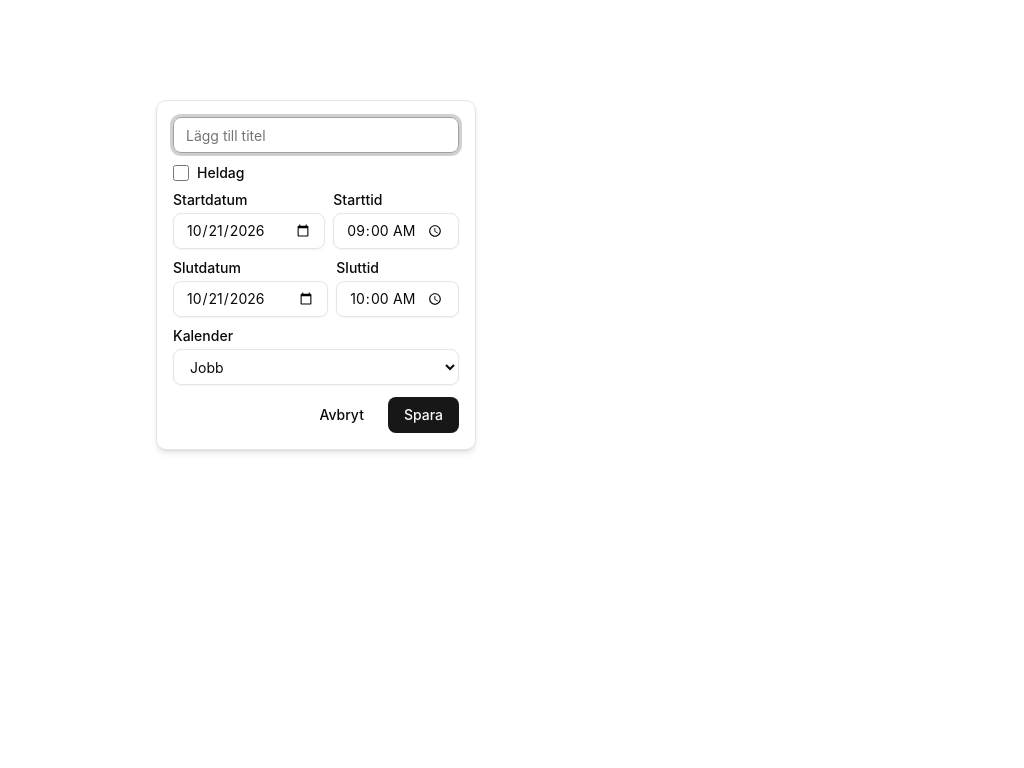
Test: QuickCreatePopover › varnar och stoppar sparande när slutet inte ligger efter början
The width and height of the screenshot is (1024, 768).
Clear the time field labelled "Sluttid" at (398, 299), box [336,281,459,317]
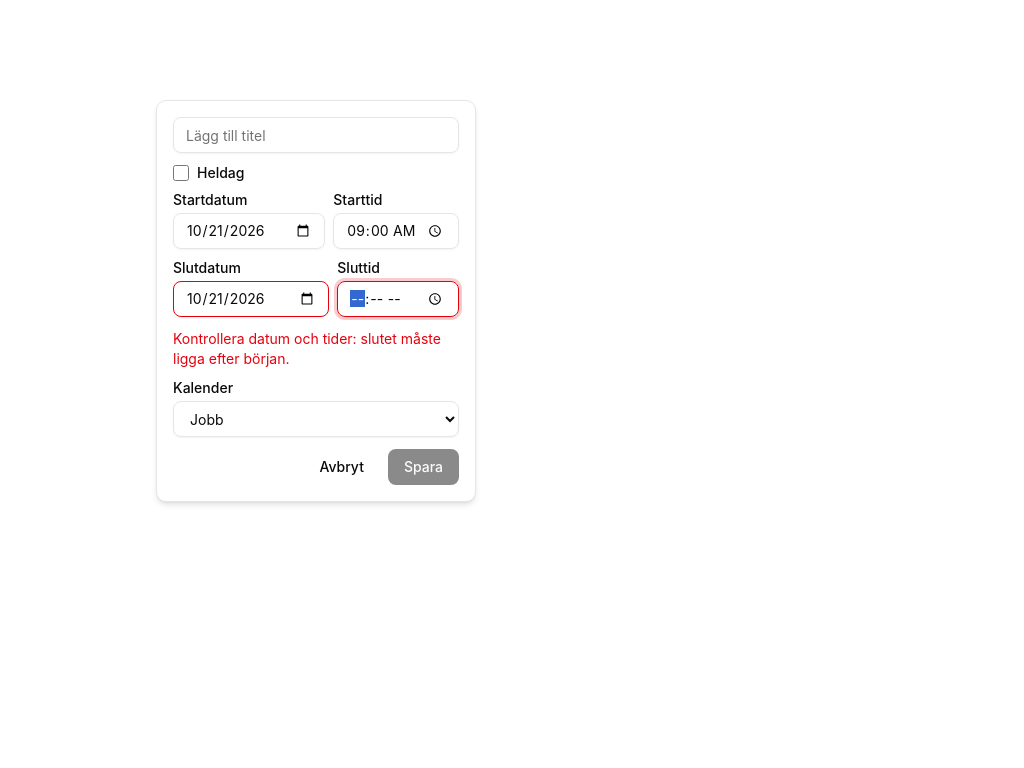
Type "08:00" into the time field labelled "Sluttid" at (398, 299), box [337,281,459,317]
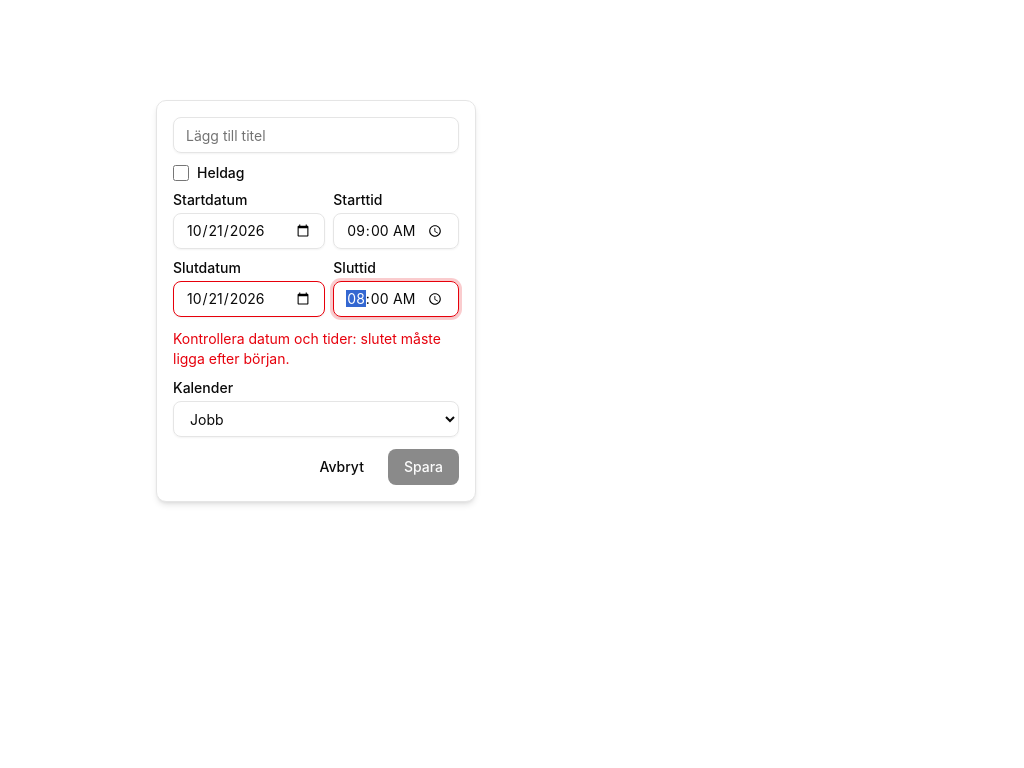
Expected: the message shows "slutet måste ligga efter början", [173,330,441,367]
Expected: the button "Spara" is disabled, [388,449,459,485]
Type "x" into the field labelled "titel" at (316, 135), box [173,117,459,153]
Then press Enter
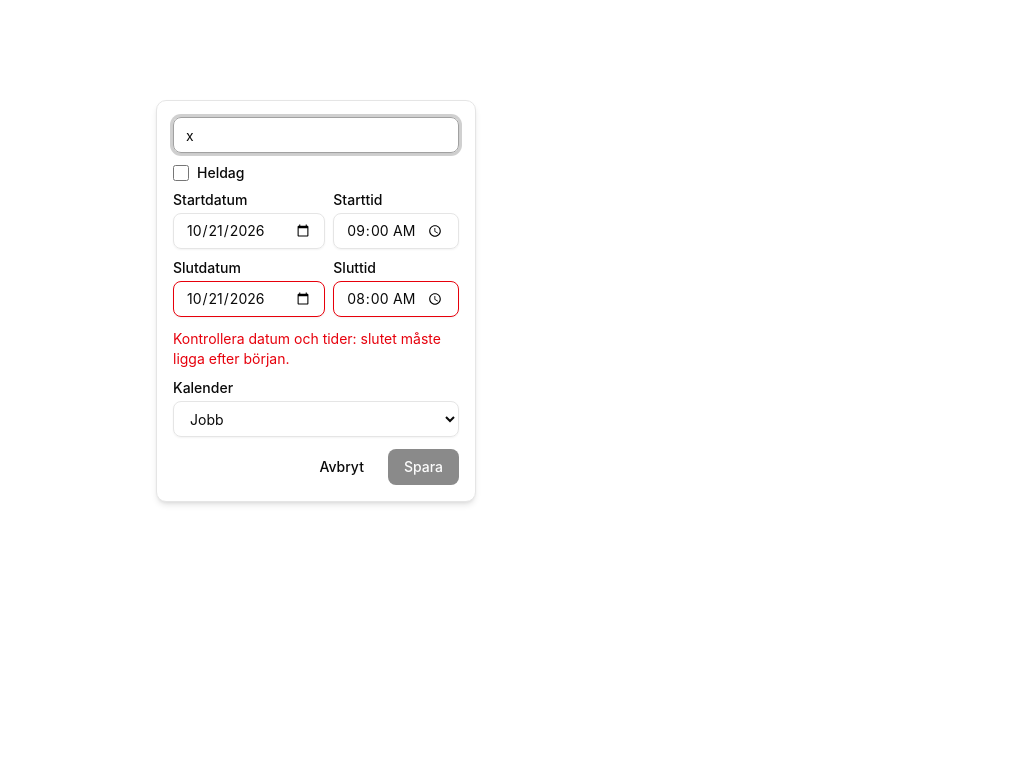
Clear the time field labelled "Sluttid" at (396, 299), box [333,281,459,317]
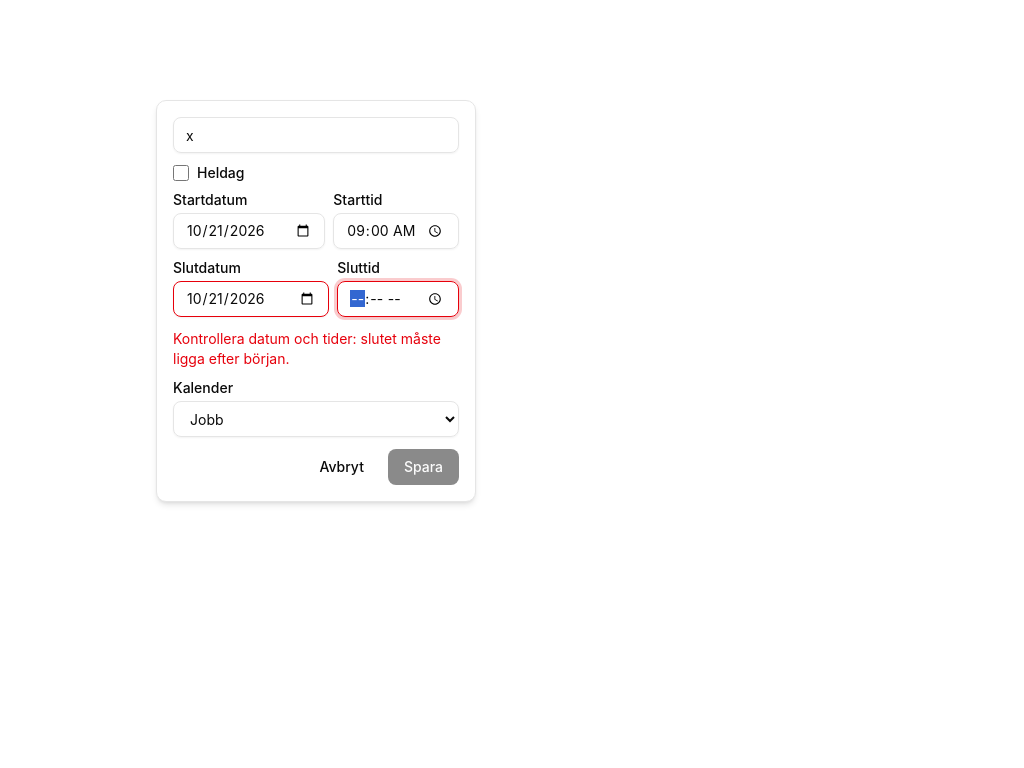
Type "11:00" into the time field labelled "Sluttid" at (398, 299), box [337,281,459,317]
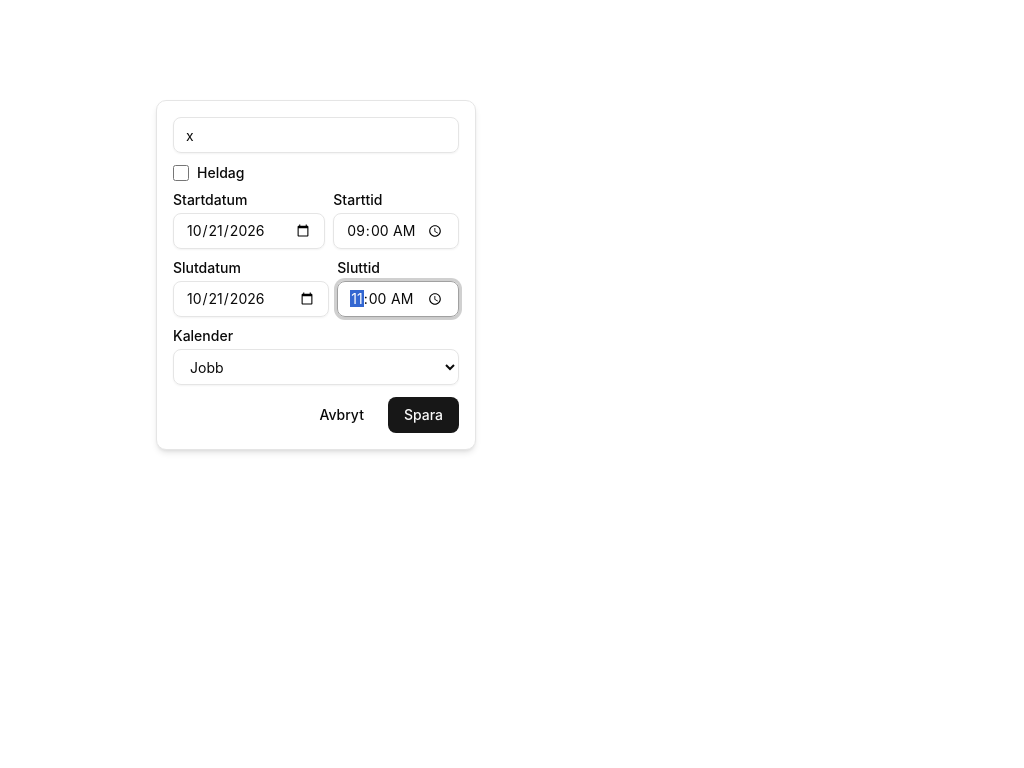
Expected: the message "Kontrollera datum och tider: slutet måste ligga efter början." is gone
Expected: the button "Spara" is enabled, [388,397,459,433]
